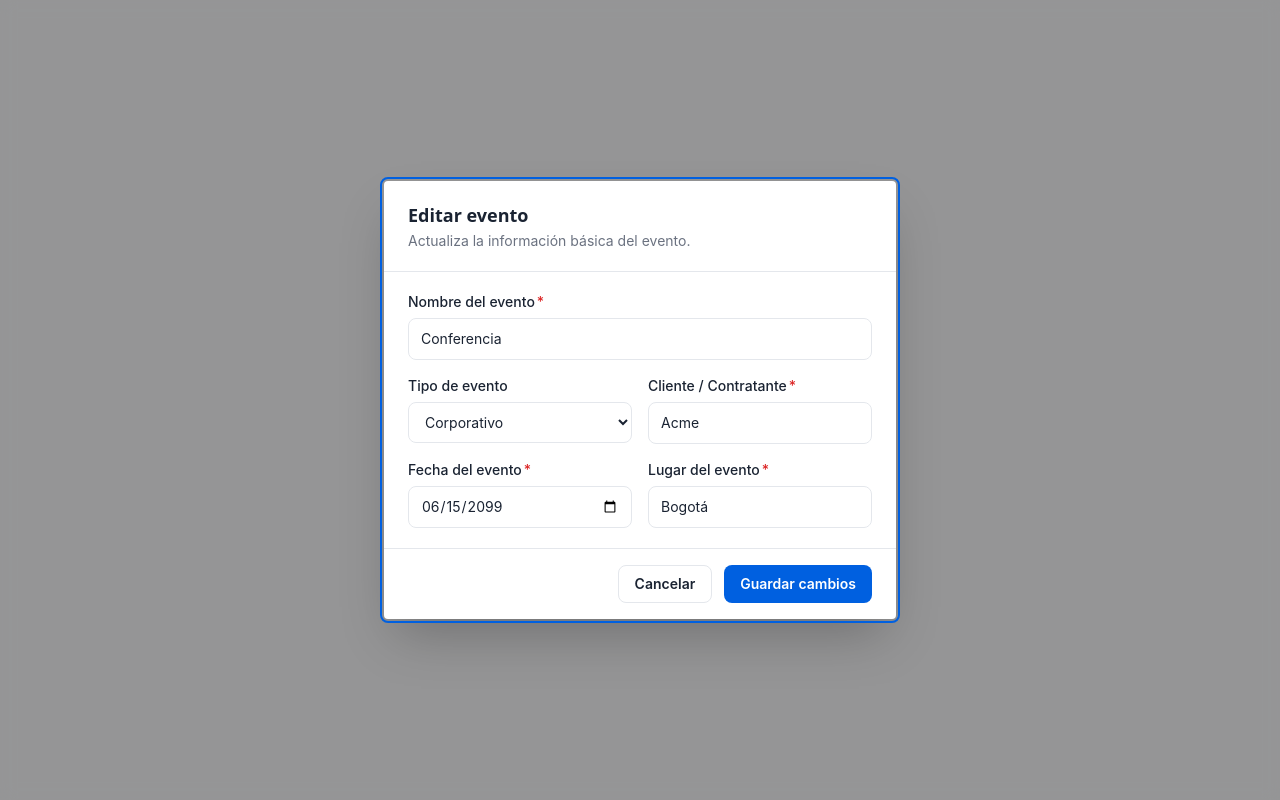
Scenario: EventFormModal › validates required fields and submits normalized event details
Later steps or results of the test are not shown.
Step 1. Clear the field labelled "Nombre del evento*" → [640, 339], box [408,318,872,360]
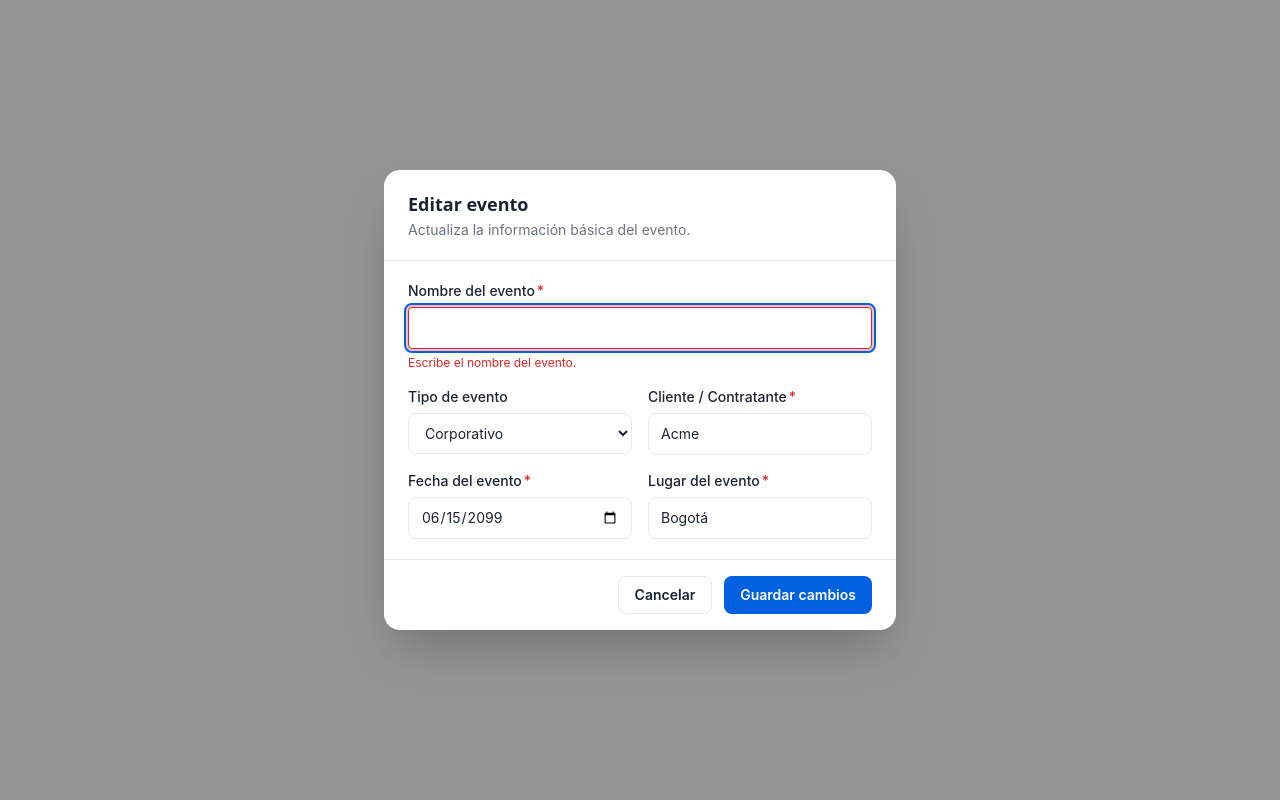
Step 2. Click the button "Guardar cambios" → [798, 595], box [724,576,872,614]
Expected: the text "Escribe el nombre del evento." is shown, [408,355,576,370]
